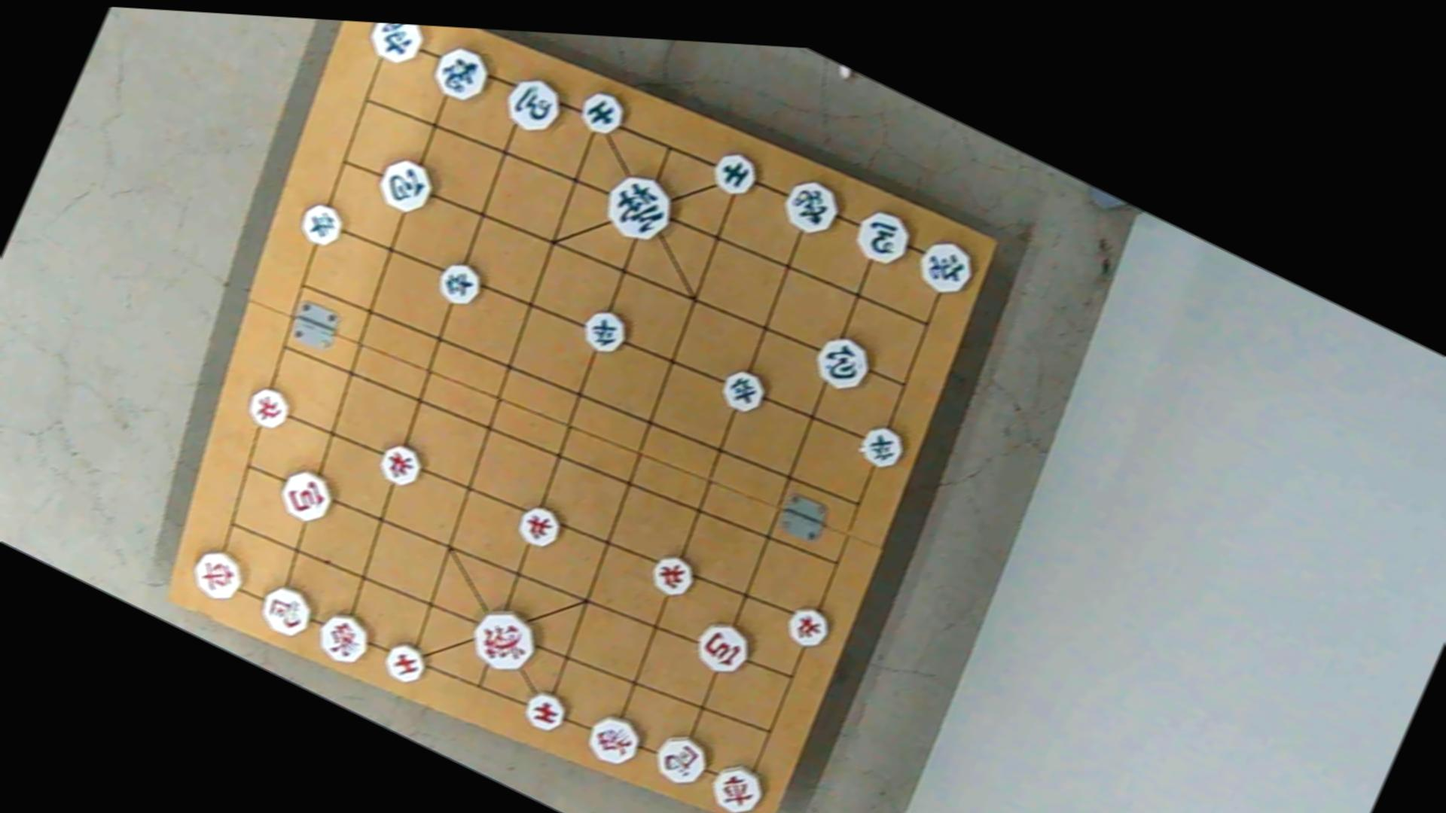cha_green: (911, 231, 981, 306), (363, 22, 429, 72)
cha_red: (187, 544, 249, 607), (705, 757, 769, 813)
jol_green: (432, 254, 487, 309), (578, 305, 632, 359), (295, 196, 348, 249), (718, 366, 770, 419), (859, 420, 911, 473)
jol_red: (371, 438, 424, 491), (514, 498, 566, 550), (784, 602, 836, 654), (648, 550, 700, 601), (246, 383, 297, 435)
ma_green: (501, 69, 568, 142), (850, 204, 915, 272)
ma_red: (652, 729, 715, 793), (255, 582, 318, 644)
po_green: (370, 148, 441, 224), (806, 327, 877, 403)
po_red: (691, 615, 755, 680), (275, 463, 337, 527)
sa_green: (575, 84, 630, 142), (709, 146, 763, 200)
sa_red: (380, 638, 432, 690), (520, 684, 570, 735)
sang_green: (776, 169, 849, 244), (430, 39, 492, 105)
sang_red: (314, 606, 376, 671), (584, 708, 646, 771)
wang_green: (602, 167, 684, 251)
wang_red: (470, 602, 545, 680)
